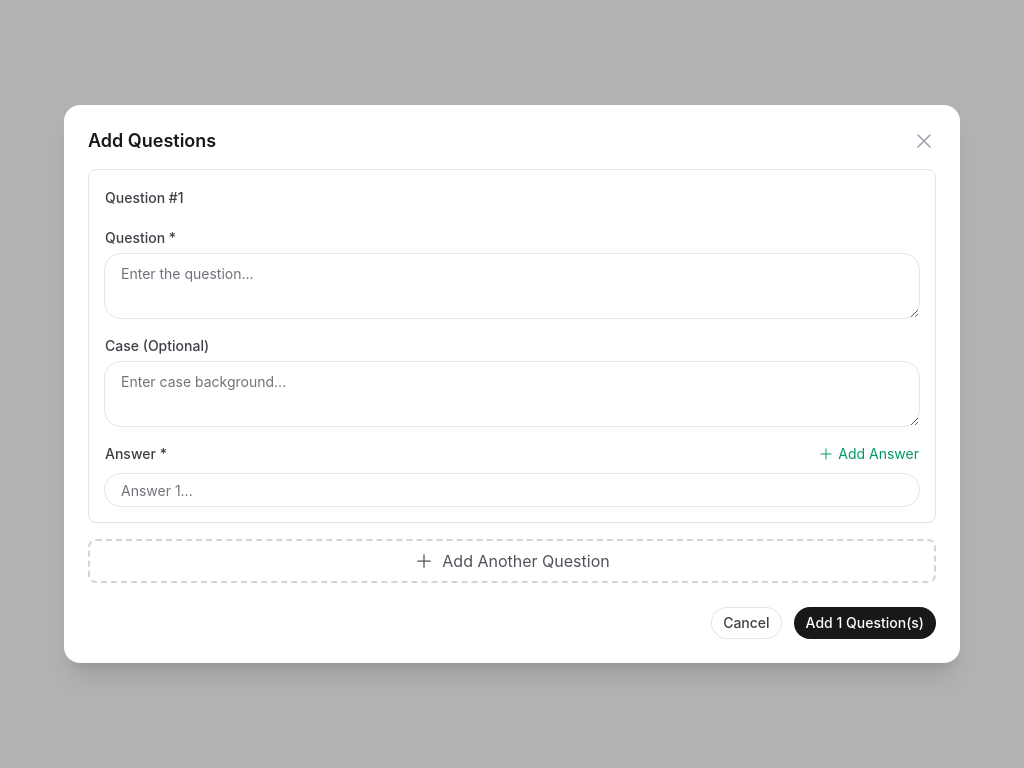
QuestionAddModal › Validation › shows error when question is empty
Click the button with test id "add-questions-button" at (865, 623), box [794,607,936,639]
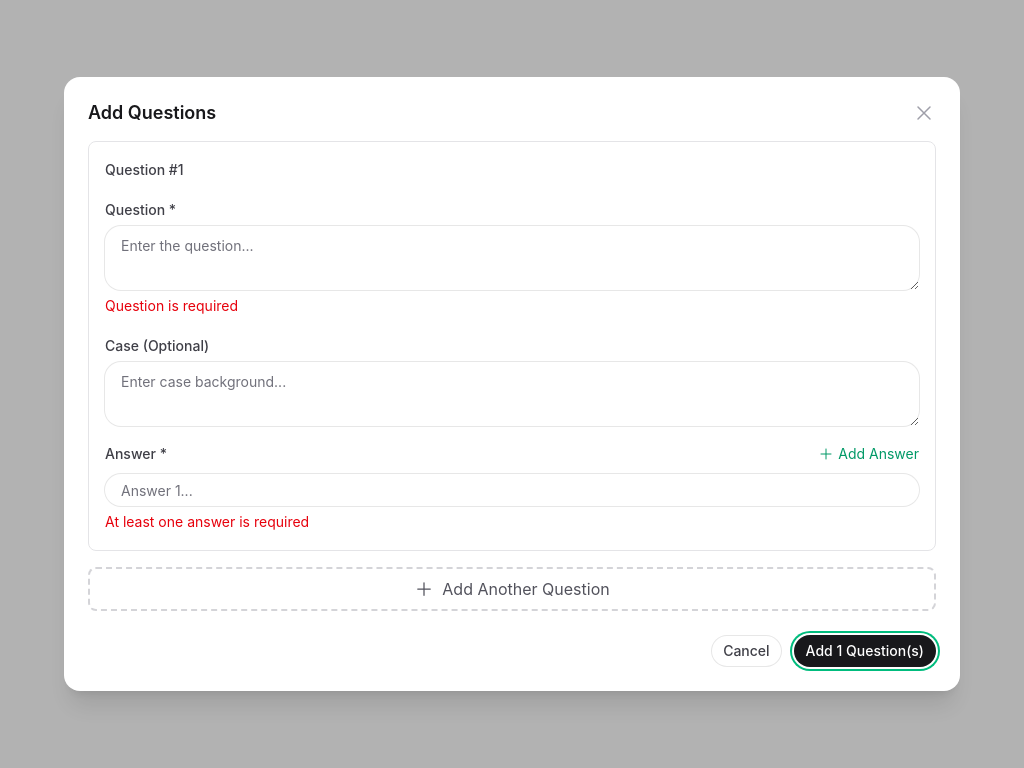
Result: the text "Question is required" is shown at [105,297,238,314]
